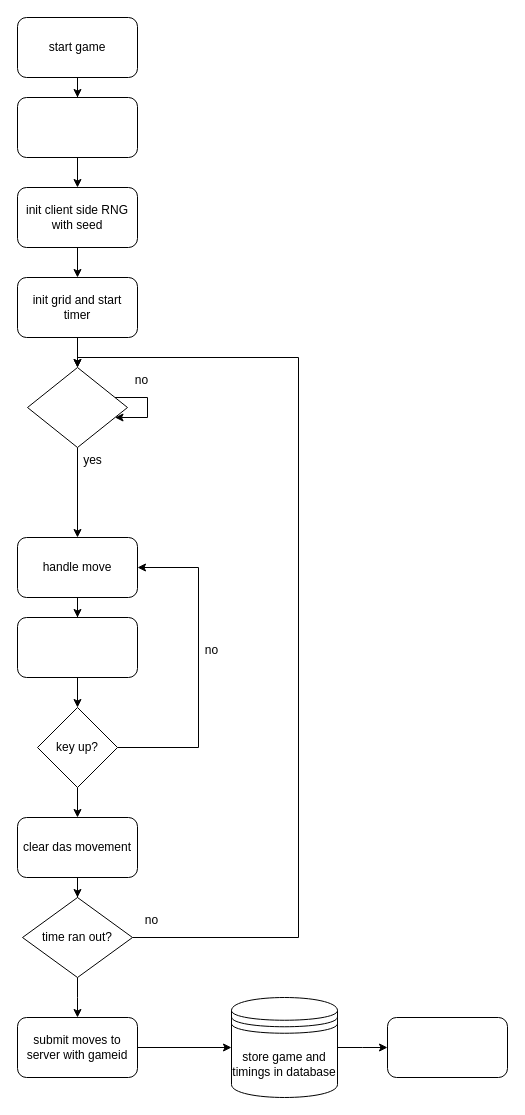
Some shapes in this 525 by 1115 pixel diagram are drawn without their labels. The box of each missing label's shape, as (x1, y1, x2, y2) in pixels:
initiate DAS movement: (16, 616, 138, 678)
key down?: (26, 366, 128, 448)
request seed from database: (16, 96, 138, 158)
show user score: (386, 1016, 508, 1078)
